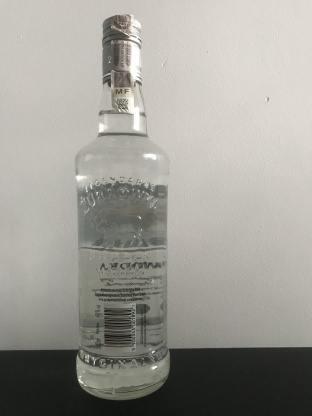nakretka: (100, 10, 144, 86)
